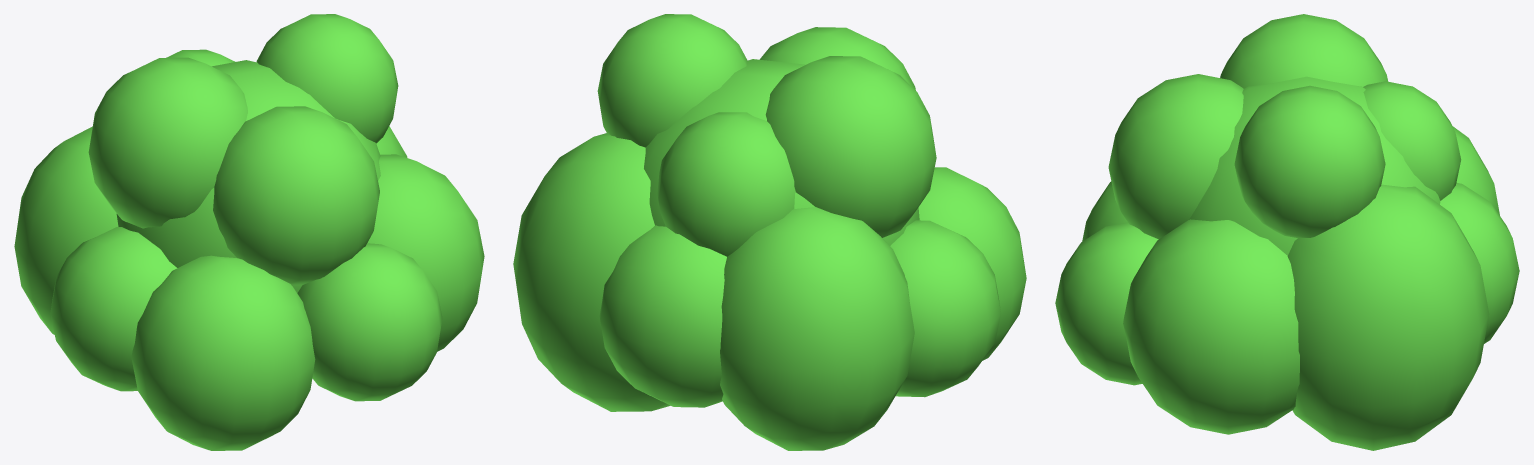
File: bush_01.glb
3 views of the same model, side by side, from view 1: azimuth 30°, elevation 25°; view 2: azimuth 150°, elevation 25°; view 3: azimuth 270°, elevation 25° (orthographic). The views are drawn at different scales.
Visible parts, largest first — view 1: Cube.020, Cube.024, Cube.025, Cube.021, Cube.029, Cube.023, Cube.027, Cube.018, Cube.019, Cube.028, Cube.022; view 2: Cube.018, Cube.022, Cube.025, Cube.026, Cube.028, Cube.029, Cube.027, Cube.020, Cube.019, Cube.024; view 3: Cube.022, Cube.023, Cube.027, Cube.024, Cube.021, Cube.025, Cube.019, Cube.028, Cube.026, Cube.018, Cube.020.
Boxes of the visible parts, x1,y1,x2,y2 form: Cube.020: (131,255,315,450); Cube.024: (213,106,379,285); Cube.025: (88,57,247,228); Cube.021: (297,243,442,401); Cube.029: (50,227,177,391); Cube.023: (367,154,484,351); Cube.027: (256,14,398,143); Cube.018: (14,126,118,334); Cube.019: (116,60,380,293); Cube.028: (166,49,235,66); Cube.022: (376,126,407,157); Cube.018: (720,207,914,450); Cube.022: (513,133,670,411); Cube.025: (765,56,936,237); Cube.026: (599,225,726,407); Cube.028: (657,112,795,256); Cube.029: (890,220,1000,397); Cube.027: (597,14,747,147); Cube.020: (918,167,1026,360); Cube.019: (644,59,919,245); Cube.024: (760,27,915,90); Cube.022: (1287,184,1489,450); Cube.023: (1123,219,1299,434); Cube.027: (1234,85,1385,238); Cube.024: (1108,74,1243,239); Cube.021: (1055,222,1158,385); Cube.025: (1220,14,1388,88); Cube.019: (1189,76,1440,255); Cube.028: (1363,81,1461,200); Cube.026: (1440,182,1519,343); Cube.018: (1453,126,1499,215); Cube.020: (1082,181,1127,241).
Size of the model in its own units: 0.9414 by 0.7903 by 0.9632.
